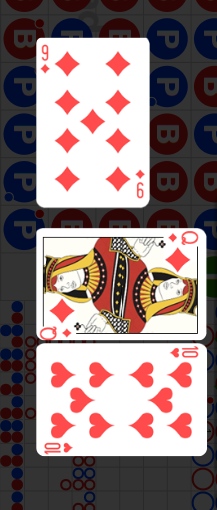10H: (168, 346, 199, 360)
9D: (134, 168, 147, 200), (40, 44, 51, 75)
QD: (36, 284, 83, 328), (157, 217, 203, 261)
